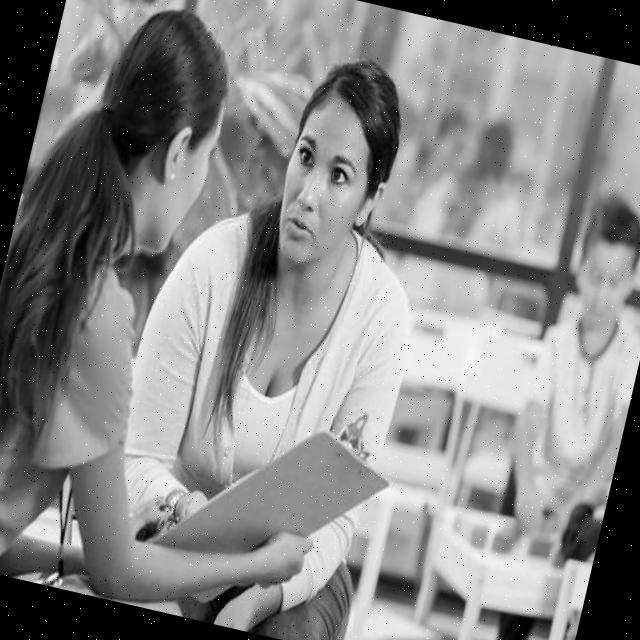Fear: (266, 90, 375, 272)
